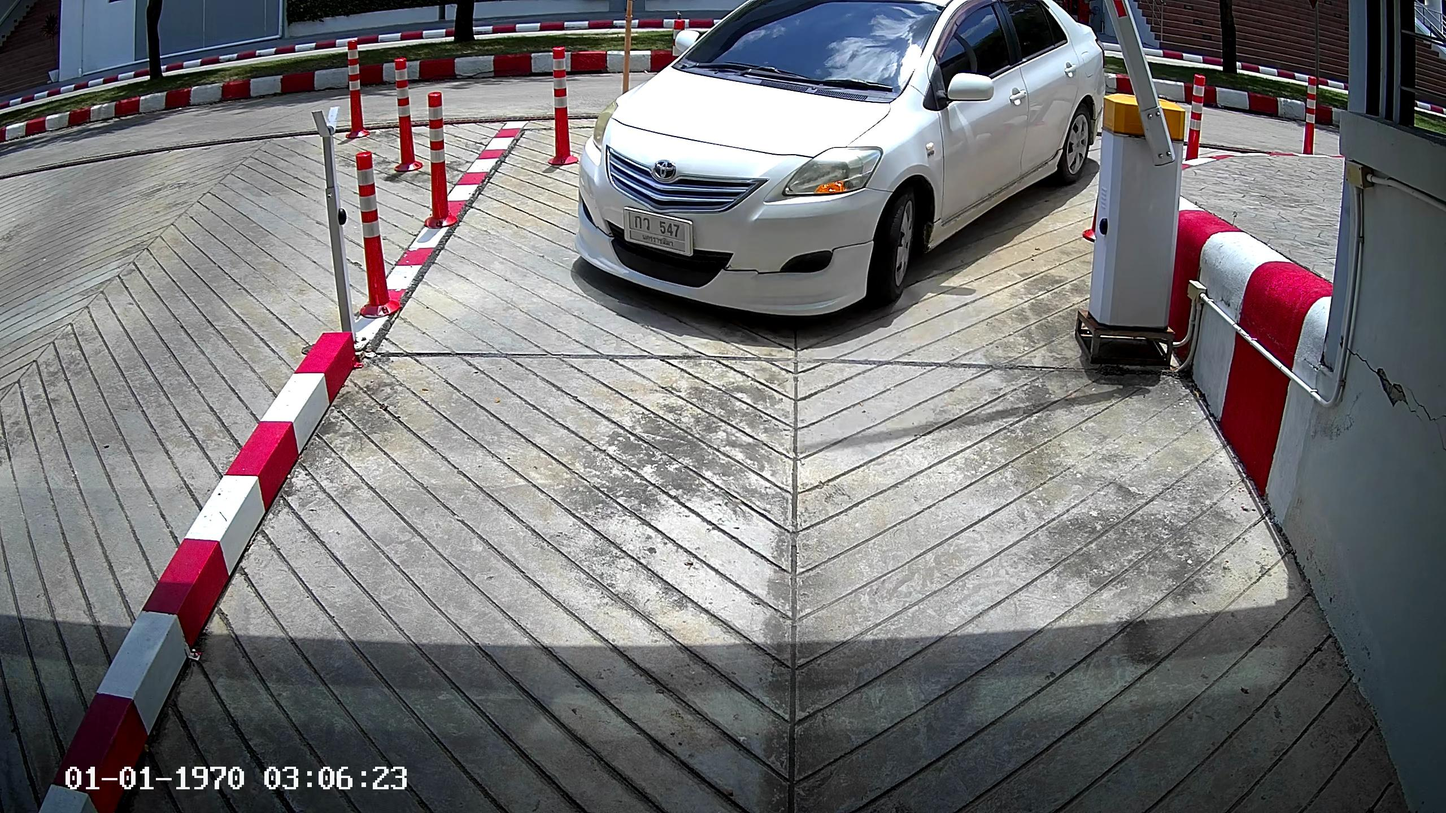car: (573, 2, 1103, 325)
license-plate: (622, 202, 695, 260)
